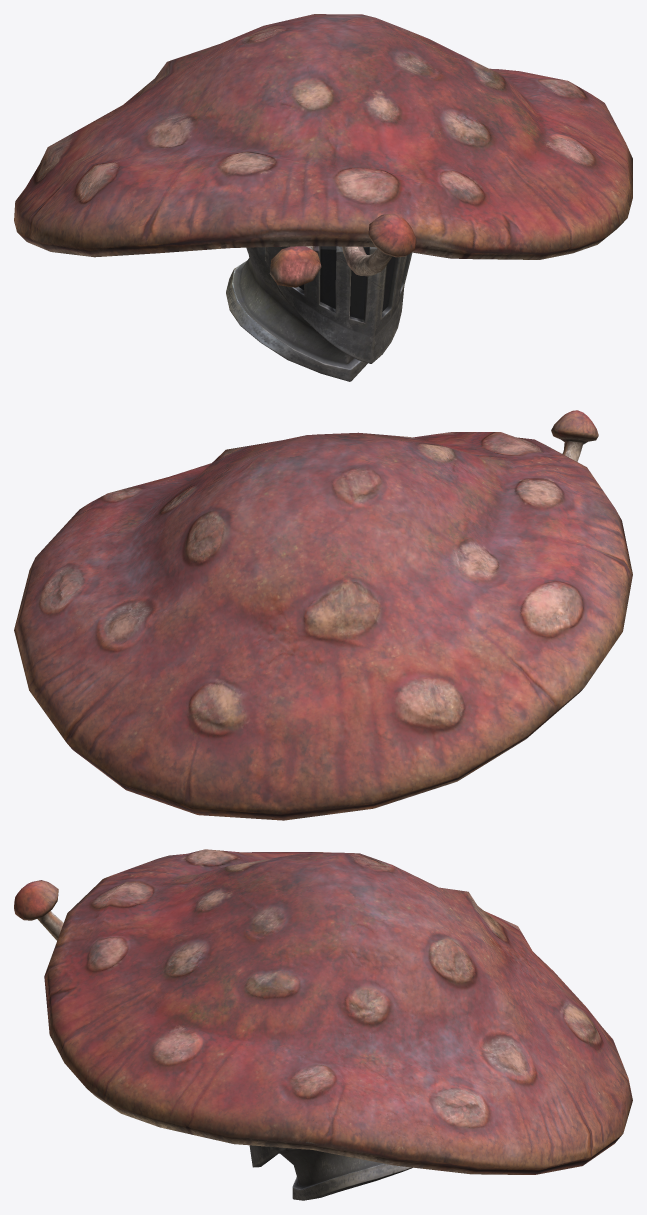
The model's file is sm_human_mushroom_helmet.gltf.
3 renders of one model, top to bottom at view 1: azimuth 30°, elevation 25°; view 2: azimuth 150°, elevation 25°; view 3: azimuth 270°, elevation 25°, orthographic. The views are drawn at different scales.
Parts seen in each view (by area): view 1: sm_human_mushroom_helmet; view 2: sm_human_mushroom_helmet; view 3: sm_human_mushroom_helmet.
Part boxes in pixels (<box>): sm_human_mushroom_helmet: <box>14,14,632,381</box>; sm_human_mushroom_helmet: <box>14,410,632,820</box>; sm_human_mushroom_helmet: <box>14,849,632,1200</box>.
Size of the model in its own units: 73.74 by 44.24 by 75.75.
1 material, 1 textured.
